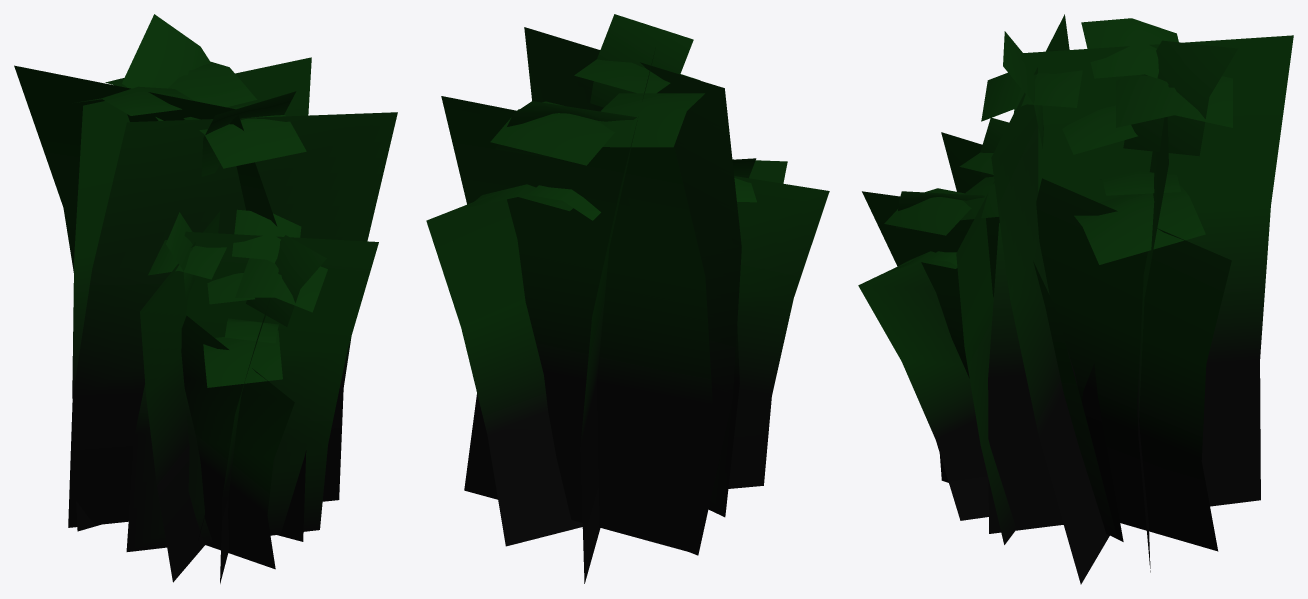
The model's file is FlowersD_afsTREE_xlp.fbx.
3 renders of one model, left to right at view 1: azimuth 30°, elevation 25°; view 2: azimuth 150°, elevation 25°; view 3: azimuth 270°, elevation 25°, orthographic. The views are drawn at different scales.
Visible parts, largest first — view 1: FlowersD_Leaf_xt02_xw05; view 2: FlowersD_Leaf_xt02_xw05; view 3: FlowersD_Leaf_xt02_xw05.
Boxes of the visible parts, x1=… form: FlowersD_Leaf_xt02_xw05: x1=14, y1=14, x2=397, y2=583; FlowersD_Leaf_xt02_xw05: x1=426, y1=14, x2=829, y2=583; FlowersD_Leaf_xt02_xw05: x1=858, y1=14, x2=1293, y2=584.
Bounding box in the file's own units: 0.3561 × 0.5574 × 0.4542.
